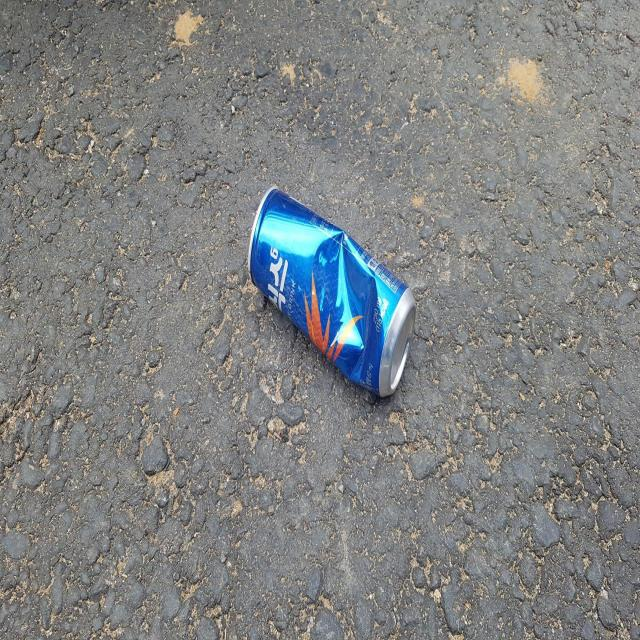can: (248, 187, 416, 396)
